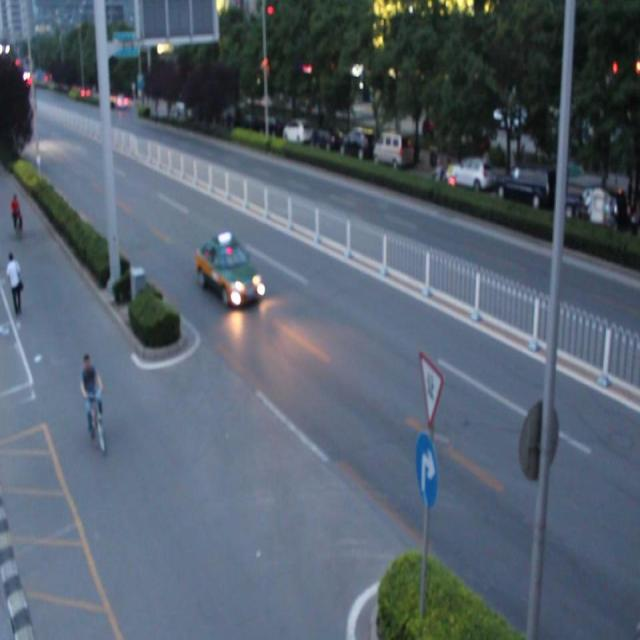car: (196, 236, 262, 312)
